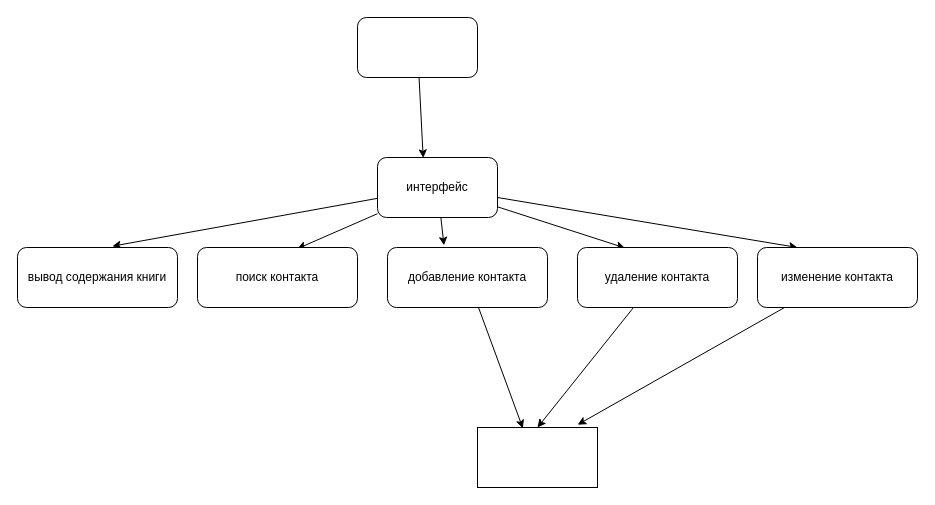
The diagram is 935 pixels wide and 505 high, and some of its shapes have lost their labels. Each missing label, with the centre of its shape:
main: the point at 417,47
файл.txt: the point at 537,457
